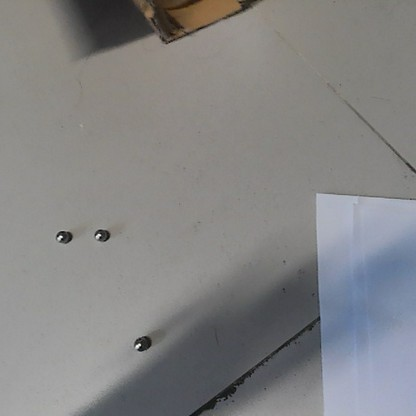ironball: (131, 331, 151, 353), (52, 226, 71, 245), (92, 225, 110, 244)
